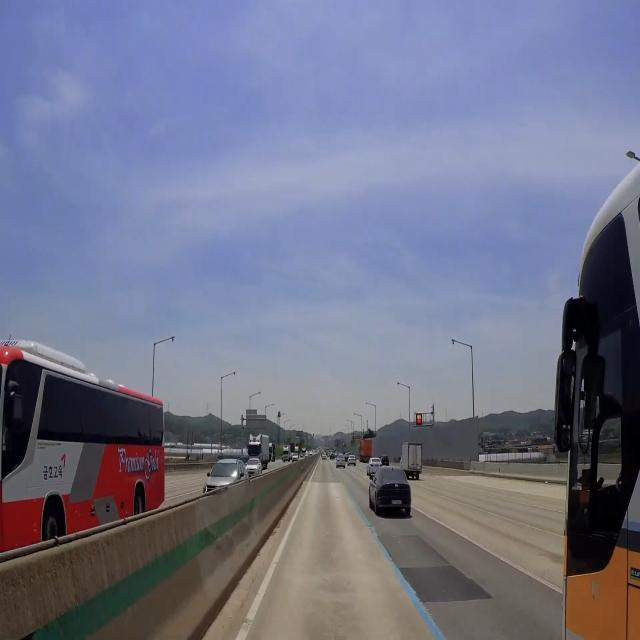car: (391, 499, 406, 508)
